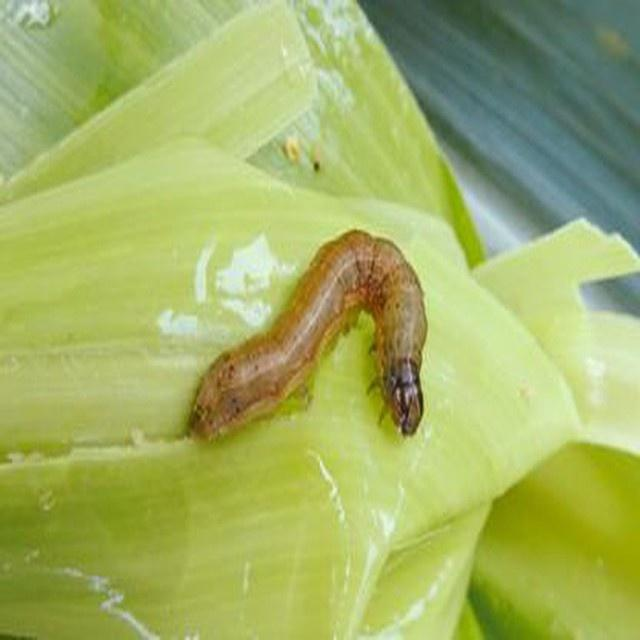gusano_cogollero: (184, 227, 432, 450)
